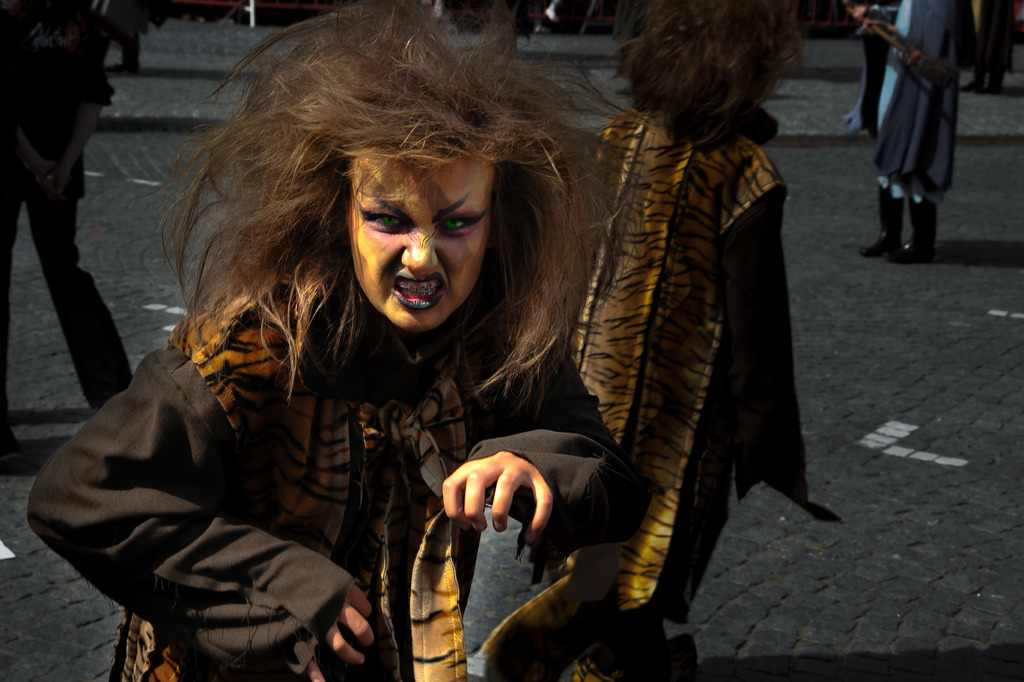Person: (5, 0, 135, 460)
